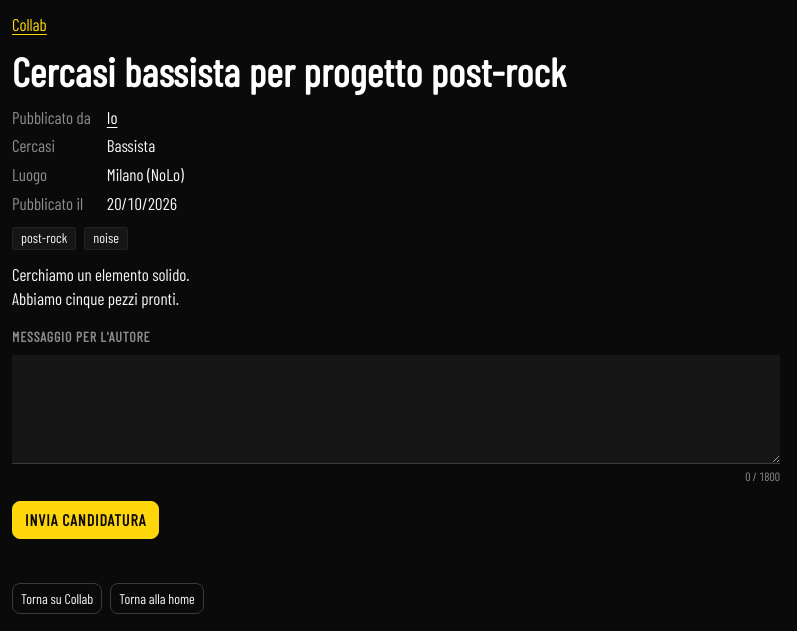
Test: CollabDetailPage · candidatura › dopo un 409 COLLAB_ALREADY_APPLIED rilegge il dettaglio e compare «Apri la chat»
Type "Ciao" into the text box labelled "Messaggio per l'autore" at (396, 410), box [12,355,780,464]
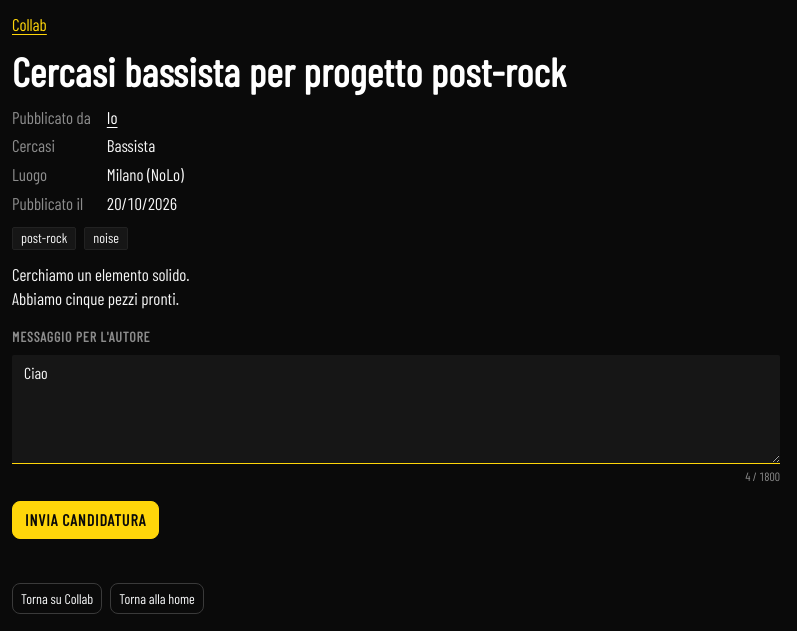
Click the button "Invia candidatura" at (86, 520), box [12,502,159,540]
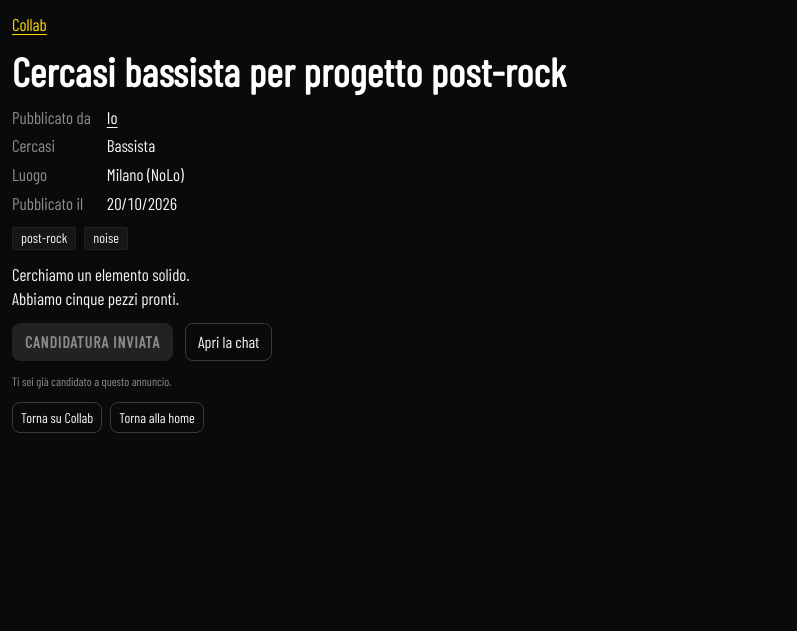
Result: the button "Candidatura inviata" is disabled at [12,323,173,361]
